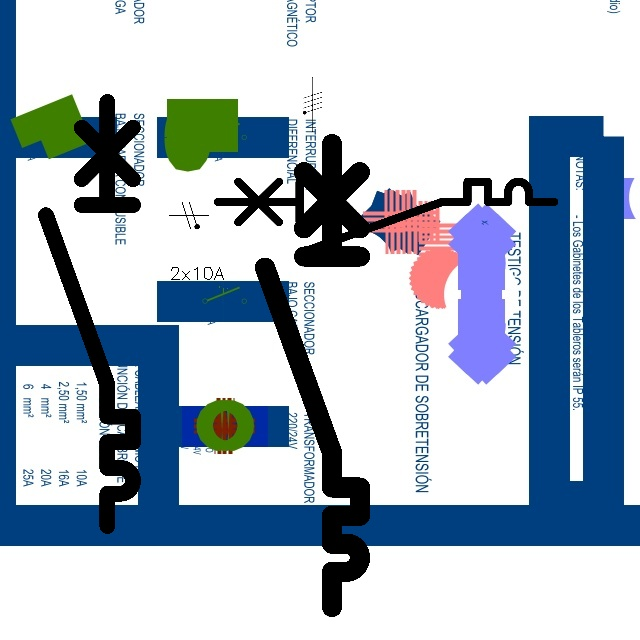interruptor_termomagnetico: (253, 132, 372, 619), (35, 91, 144, 537), (209, 173, 563, 259)
